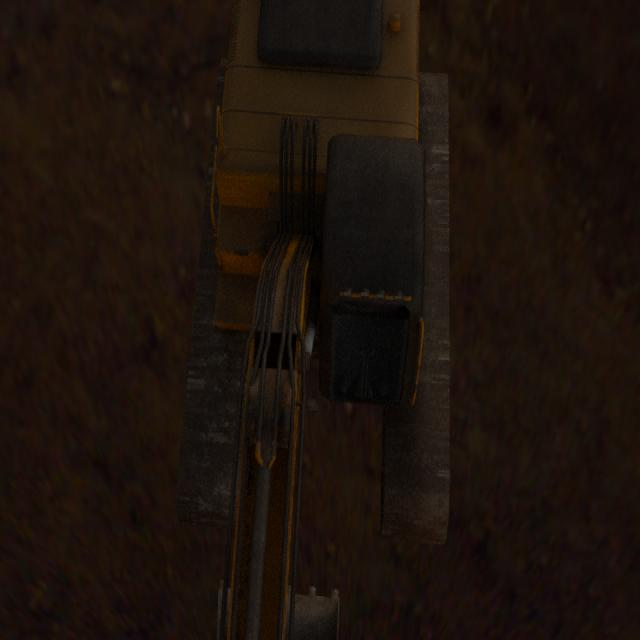excavator: (177, 0, 450, 640)
